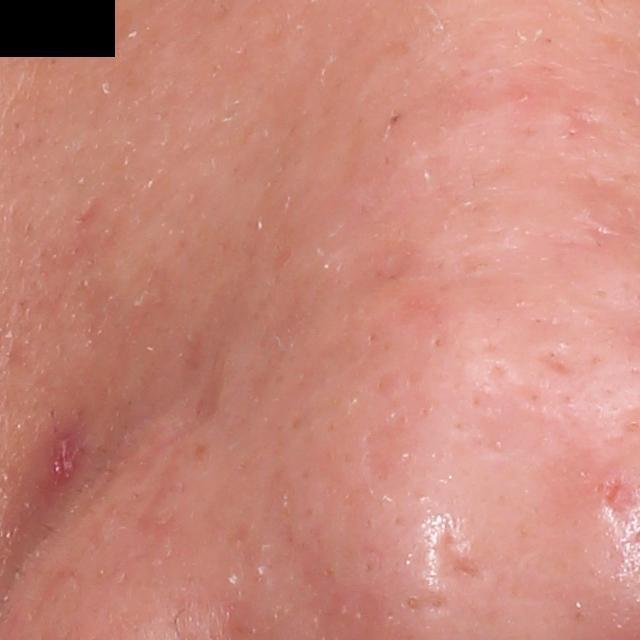atrophic_scar: (428, 521, 490, 599), (534, 345, 578, 378), (597, 472, 628, 517)
